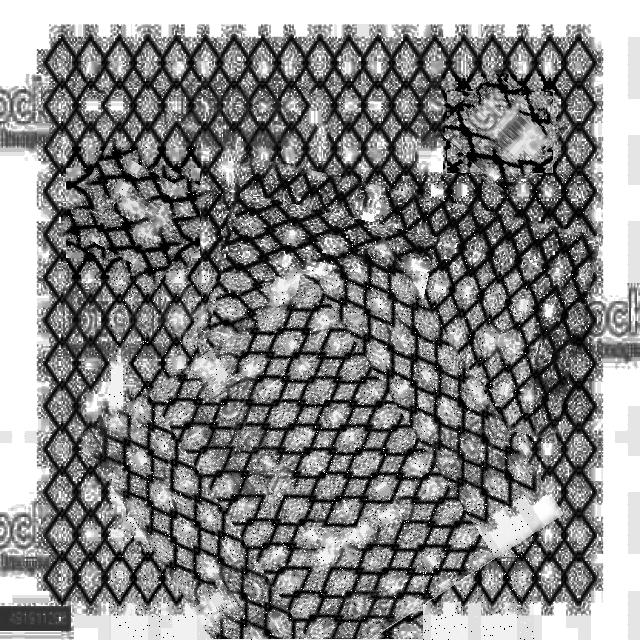anomaly-fence: (109, 273, 534, 640), (205, 174, 592, 421), (67, 147, 200, 279), (443, 74, 558, 189)
